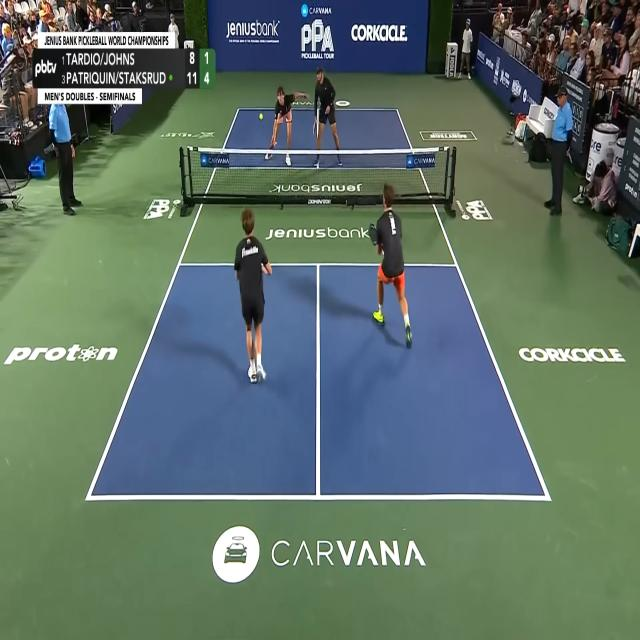ball: (258, 112, 264, 121)
